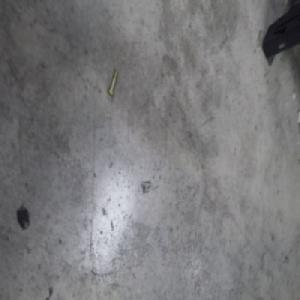Bolt: (106, 68, 119, 99)
